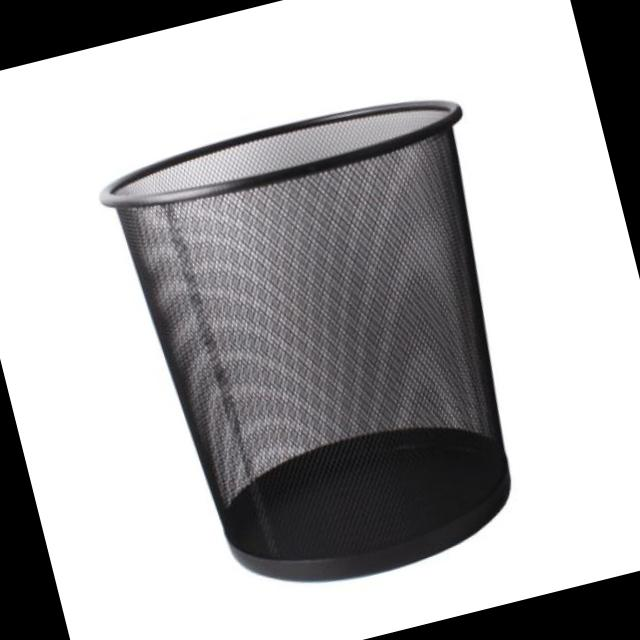dustbin: (88, 71, 572, 626)
